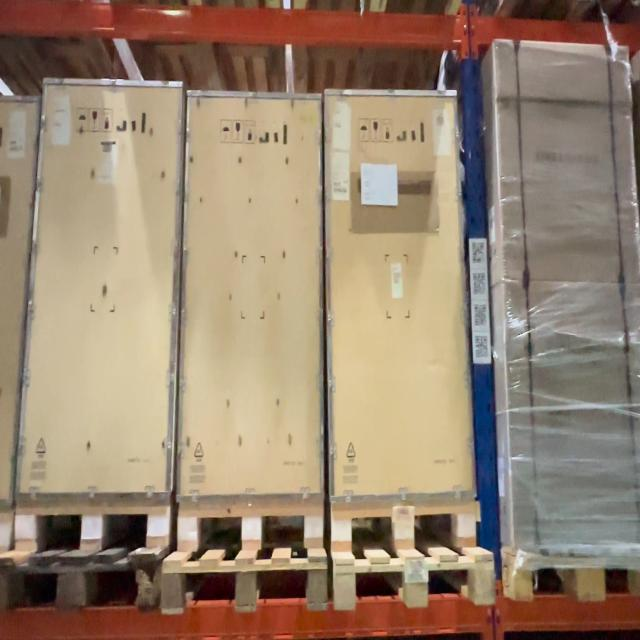box: (17, 82, 184, 495), (325, 90, 477, 501), (180, 93, 324, 501)
